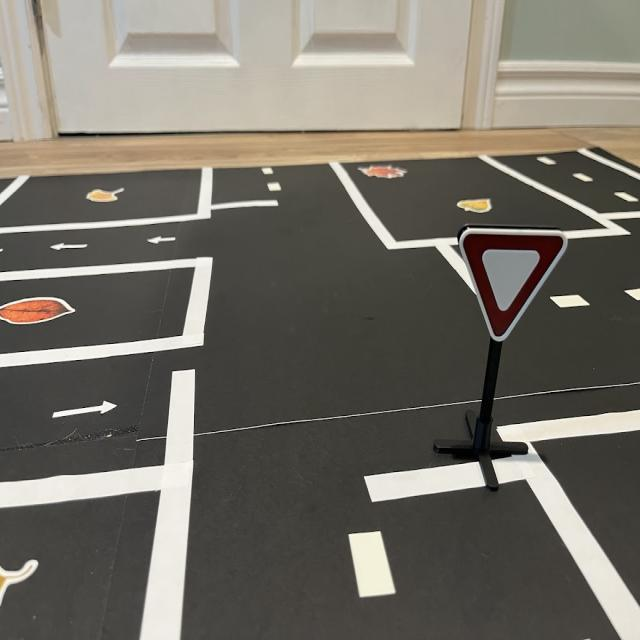road_oneway: (52, 392, 126, 426), (47, 236, 94, 257), (141, 232, 184, 251)
sign_yield: (461, 229, 568, 344)
